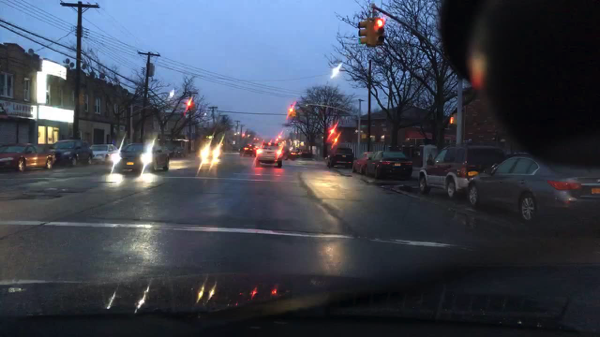car: (467, 154, 598, 222), (417, 145, 506, 197), (1, 142, 56, 173), (114, 143, 168, 173), (362, 152, 412, 180), (48, 141, 94, 166), (256, 142, 284, 167), (324, 147, 354, 169), (88, 145, 118, 166), (351, 152, 374, 174), (197, 142, 223, 159), (280, 146, 300, 162), (240, 143, 257, 156), (167, 143, 185, 155), (299, 149, 312, 159)
traffic light: (373, 18, 384, 44), (359, 19, 368, 45), (449, 115, 456, 125), (287, 108, 293, 118), (291, 108, 297, 118), (79, 93, 83, 105), (191, 99, 195, 110), (359, 133, 366, 139), (186, 101, 190, 110)
